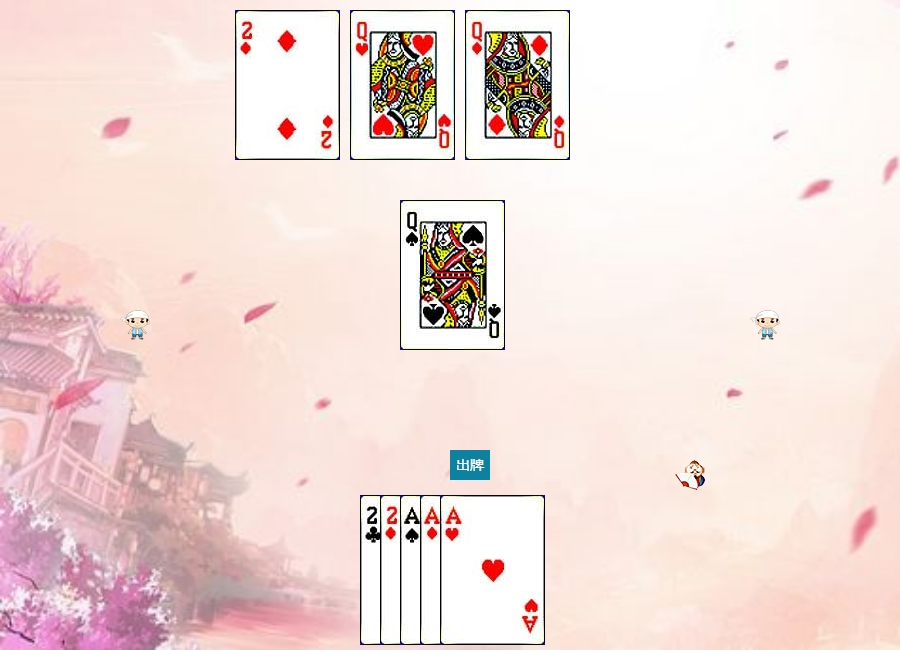12~1: (465, 10, 570, 160)
12~3: (350, 10, 455, 160)
12~4: (400, 200, 505, 350)
14~1: (420, 495, 525, 645)
14~3: (440, 495, 545, 645)
14~4: (400, 495, 505, 645)
15~1: (235, 10, 340, 160), (380, 495, 485, 645)
15~2: (360, 495, 465, 645)
